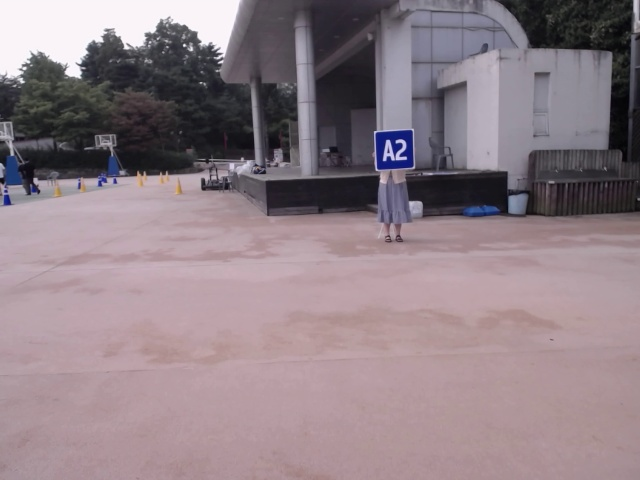delivery_a2: (375, 128, 415, 171)
